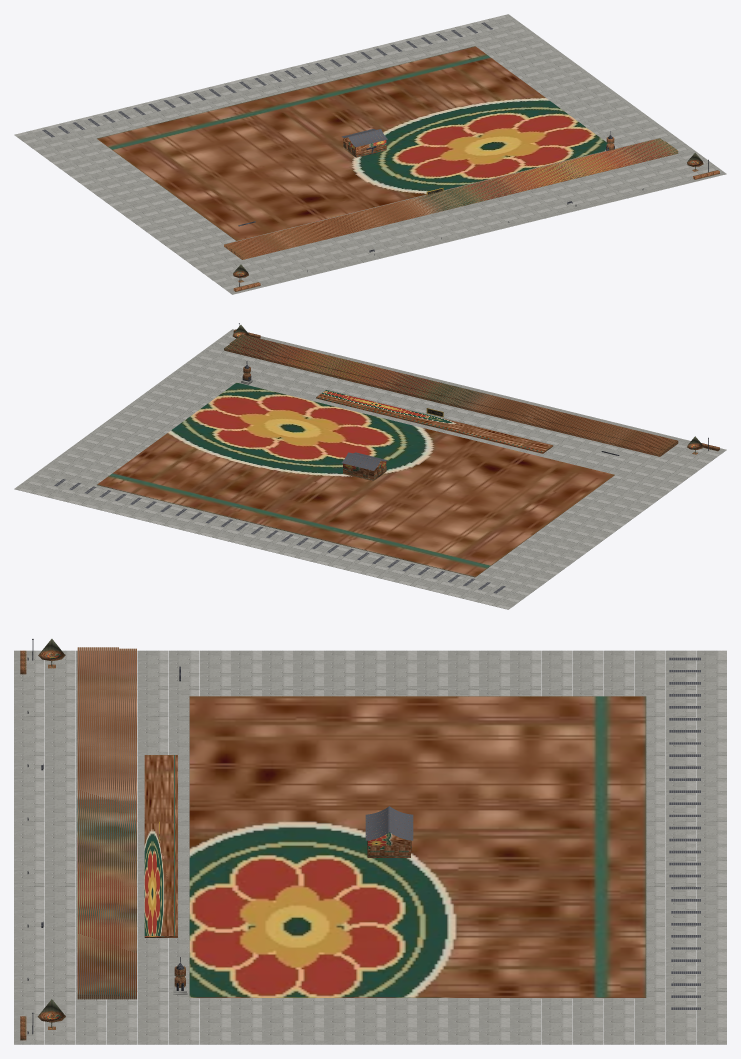
3 views of the same model, one above another, from view 1: azimuth 30°, elevation 25°; view 2: azimuth 150°, elevation 25°; view 3: azimuth 270°, elevation 25° (orthographic). The views are drawn at different scales.
Visible parts, largest first — view 1: 11710_01_05549_003_02__mass_body_facade, 11710_01_05549_003_01__plinth_ground_base, 11710_01_05549_003_03__roof_deck_structure, 11710_01_05549_003_06__landscape_greenery; view 2: 11710_01_05549_003_02__mass_body_facade, 11710_01_05549_003_01__plinth_ground_base, 11710_01_05549_003_03__roof_deck_structure; view 3: 11710_01_05549_003_02__mass_body_facade, 11710_01_05549_003_01__plinth_ground_base, 11710_01_05549_003_03__roof_deck_structure, 11710_01_05549_003_06__landscape_greenery.
Boxes of the visible parts, box(x1,y1,x2,y2) form: 11710_01_05549_003_02__mass_body_facade: box(97, 46, 678, 259); 11710_01_05549_003_01__plinth_ground_base: box(14, 14, 726, 294); 11710_01_05549_003_03__roof_deck_structure: box(42, 22, 492, 147); 11710_01_05549_003_06__landscape_greenery: box(233, 152, 719, 291); 11710_01_05549_003_02__mass_body_facade: box(97, 334, 678, 577); 11710_01_05549_003_01__plinth_ground_base: box(14, 329, 726, 609); 11710_01_05549_003_03__roof_deck_structure: box(54, 452, 505, 593); 11710_01_05549_003_02__mass_body_facade: box(77, 647, 646, 999); 11710_01_05549_003_01__plinth_ground_base: box(14, 650, 726, 1044); 11710_01_05549_003_03__roof_deck_structure: box(365, 657, 700, 1009); 11710_01_05549_003_06__landscape_greenery: box(20, 639, 65, 1040).
Size of the model in its own units: 196 by 8.2 by 150.
Materials: 7 (7 with a texture image).
